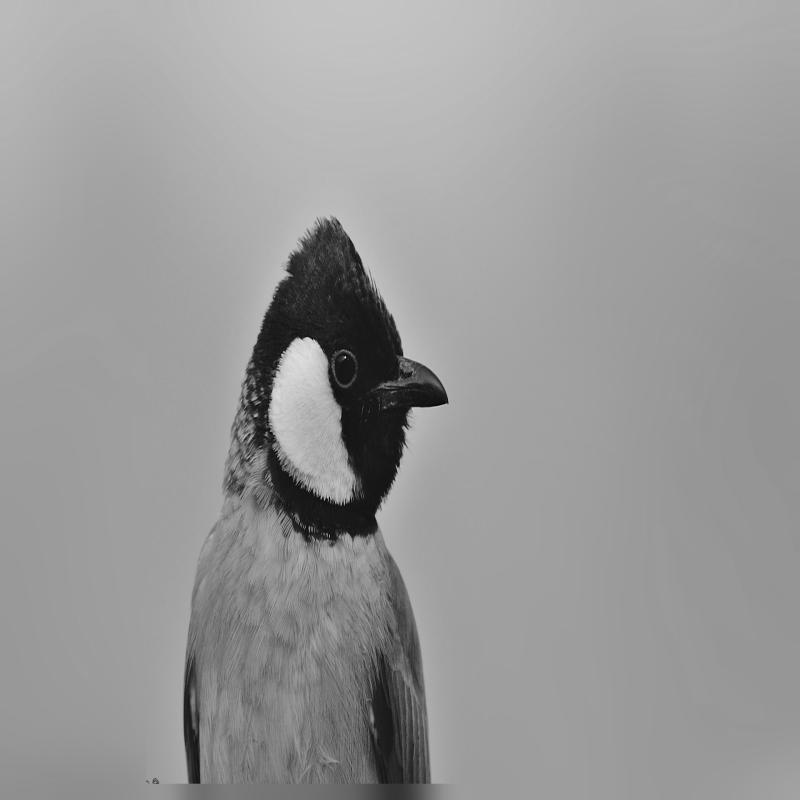white-eared bulbul: (173, 202, 449, 787)
